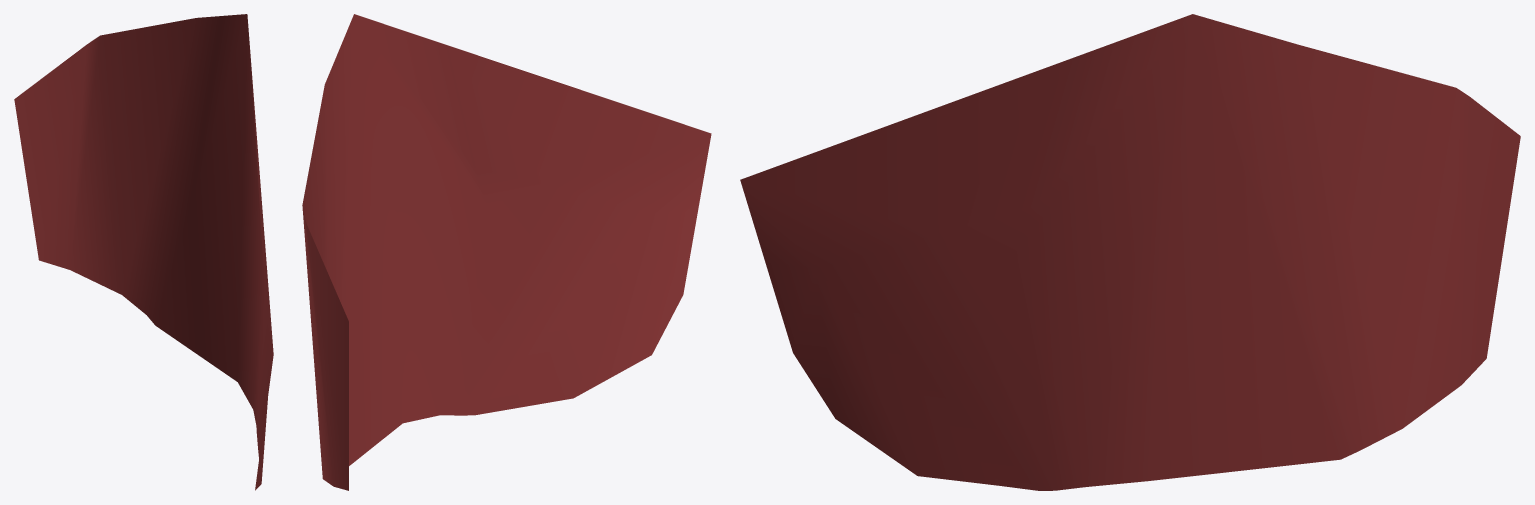
The model's file is longissimus-thoracis-muscle-e21l.glb.
3 renders of one model, left to right at view 1: azimuth 30°, elevation 25°; view 2: azimuth 150°, elevation 25°; view 3: azimuth 270°, elevation 25°, orthographic. The views are drawn at different scales.
Visible parts, largest first — view 1: Longissimus thoracis muscle.e21l; view 2: Longissimus thoracis muscle.e21l; view 3: Longissimus thoracis muscle.e21l.
Part boxes in pixels (x1=…): Longissimus thoracis muscle.e21l: x1=14, y1=14, x2=273, y2=490; Longissimus thoracis muscle.e21l: x1=302, y1=14, x2=711, y2=490; Longissimus thoracis muscle.e21l: x1=740, y1=14, x2=1520, y2=490.
Bounding box in the file's own units: 0.00209 × 0.00546 × 0.00743.
